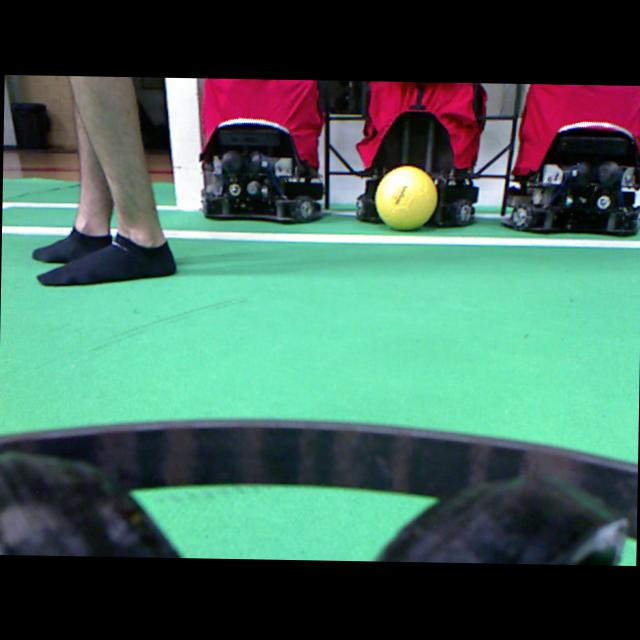ball: (374, 165, 436, 229)
goal: (164, 77, 202, 209)
